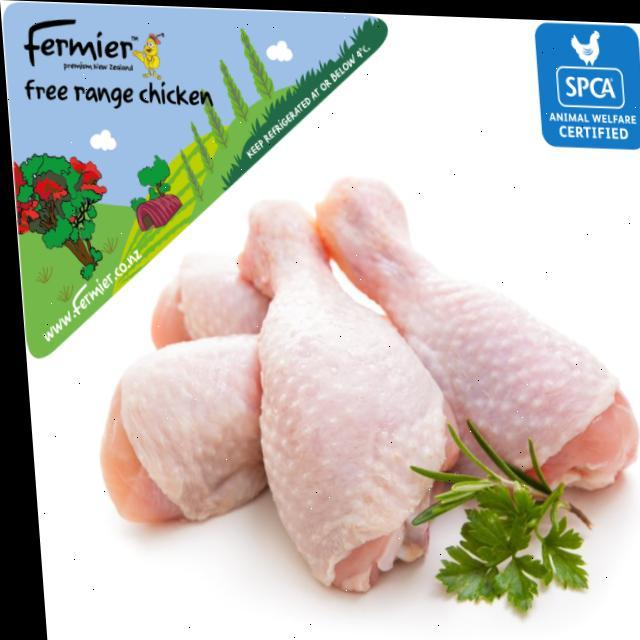leg: (309, 166, 634, 498), (231, 190, 456, 590), (76, 324, 314, 532), (138, 253, 268, 343)
